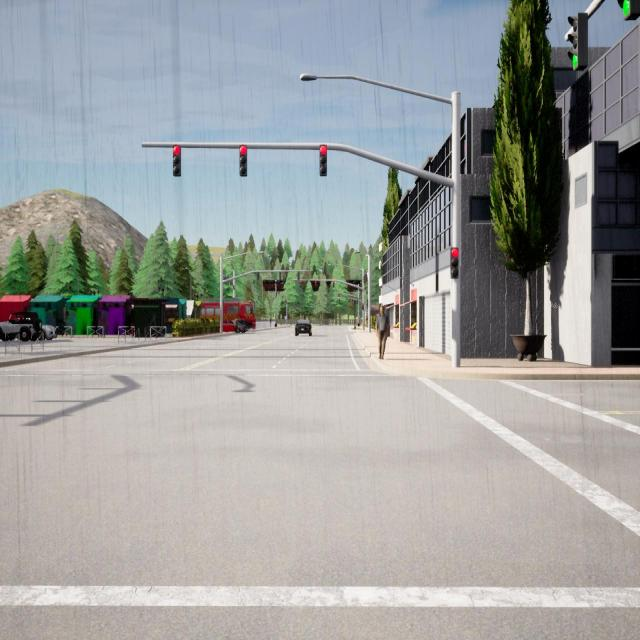Pedestrian: (375, 304, 389, 358), (269, 316, 272, 328)
Traffic_Signs: (284, 316, 288, 320)
Vehicle: (200, 300, 256, 334), (0, 311, 42, 341), (295, 319, 312, 337), (43, 325, 57, 341)
traffic_light: (568, 12, 588, 71), (617, 0, 640, 21), (172, 144, 182, 176), (450, 247, 459, 278), (240, 145, 248, 177), (320, 145, 328, 176), (280, 272, 282, 281), (300, 280, 302, 288), (315, 280, 317, 288), (333, 280, 335, 288), (258, 272, 260, 280), (298, 272, 300, 280), (362, 303, 364, 310), (338, 293, 340, 297), (364, 276, 365, 283), (366, 275, 367, 282)
